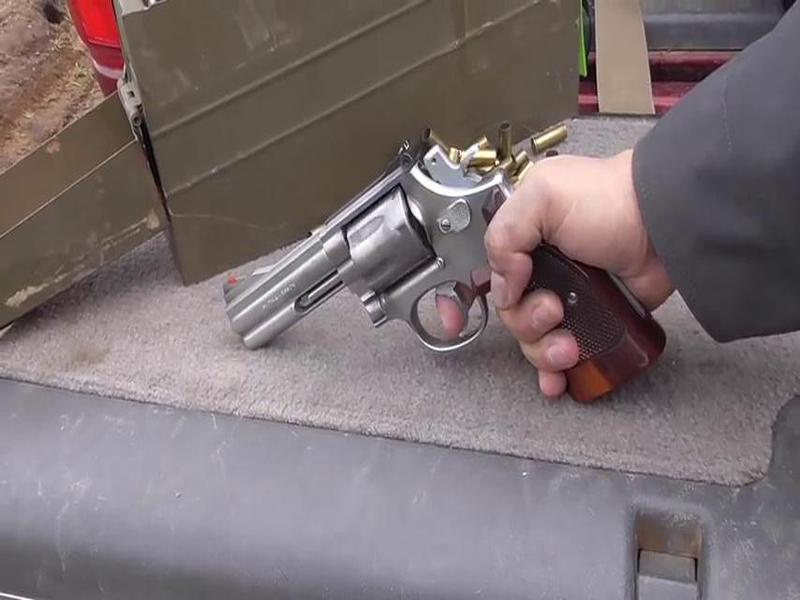Revolver: (214, 114, 662, 451)
